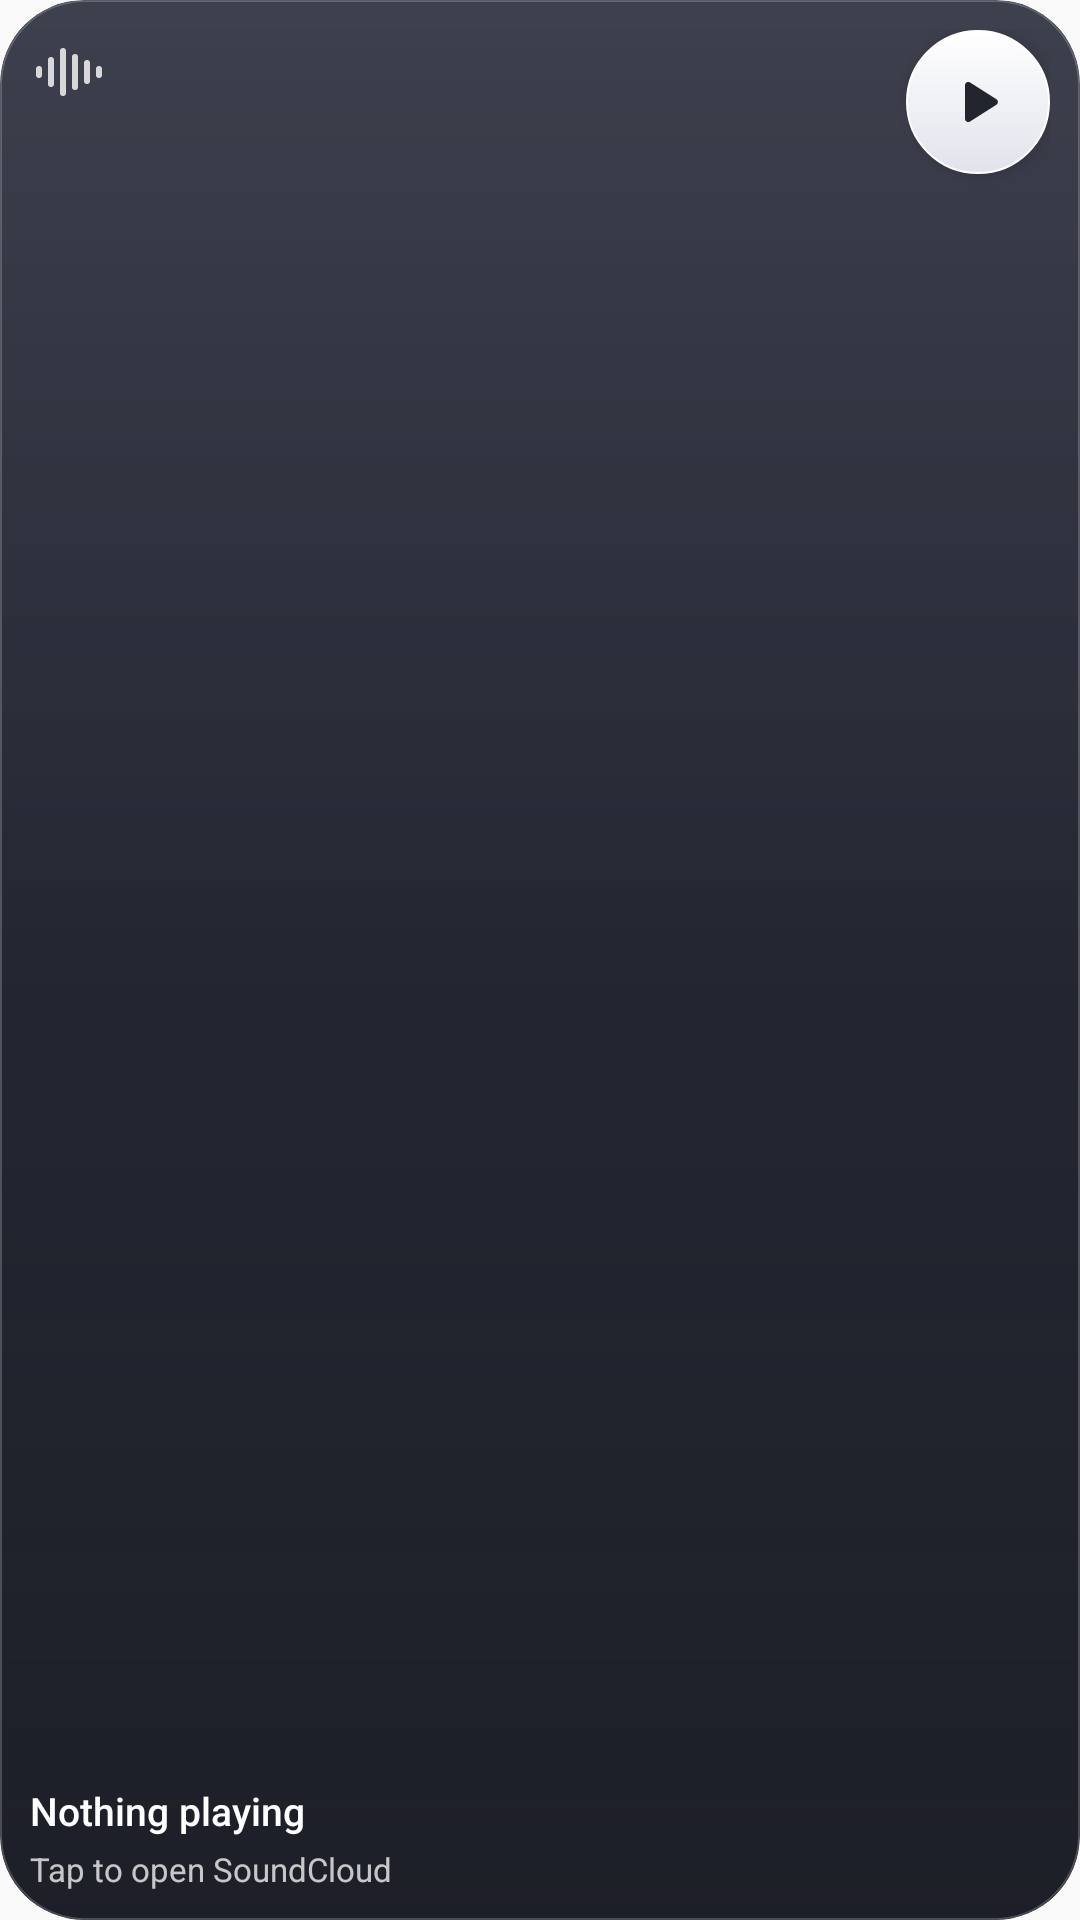

Icon bounding boxes for this 1080×1920 phone screenshot, format bbox(x1, y1, x2, y2):
play: bbox(965, 82, 998, 122)
widget mark: bbox(36, 48, 102, 96)
